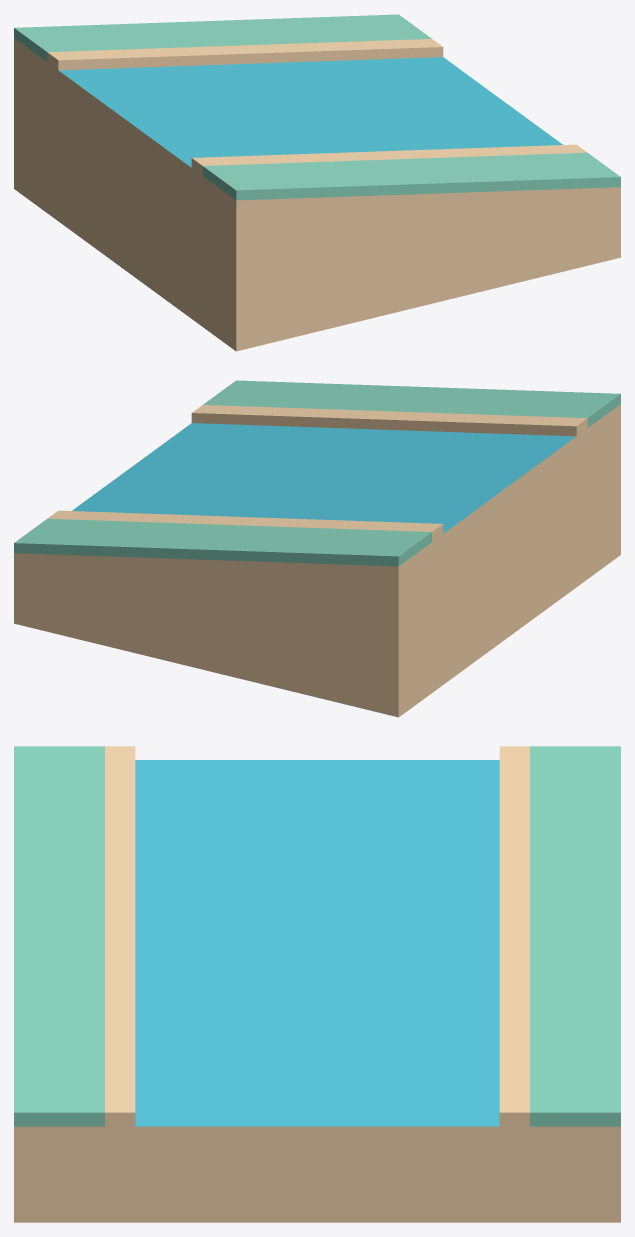
The model's file is Water_Slope.fbx.
3 views of the same model, one above another, from view 1: azimuth 30°, elevation 25°; view 2: azimuth 150°, elevation 25°; view 3: azimuth 270°, elevation 25° (orthographic). The views are drawn at different scales.
Parts seen in each view (by area): view 1: Water_Slope; view 2: Water_Slope; view 3: Water_Slope.
Boxes of the visible parts, left/top/right/bottom form: Water_Slope: left=14, top=14, right=620, bottom=351; Water_Slope: left=14, top=380, right=620, bottom=717; Water_Slope: left=14, top=746, right=620, bottom=1222.
Bounding box in the file's own units: 1 × 0.4 × 1.
